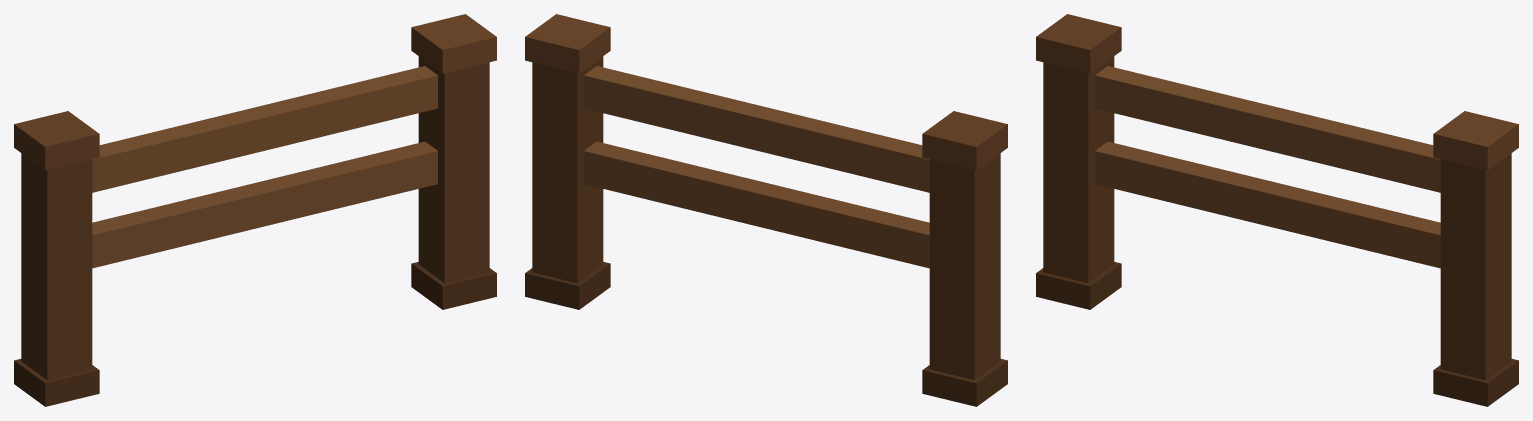
The model's file is fence_wood.glb.
3 views of the same model, side by side, from view 1: azimuth 30°, elevation 25°; view 2: azimuth 150°, elevation 25°; view 3: azimuth 330°, elevation 25° (orthographic).
Visible parts, largest first — view 1: fence_wood; view 2: fence_wood; view 3: fence_wood.
Boxes of the visible parts, <box> form: fence_wood: <box>14,14,496,406</box>; fence_wood: <box>525,14,1007,406</box>; fence_wood: <box>1036,14,1518,406</box>.
Size of the model in its own units: 2 by 1.1 by 0.24.
